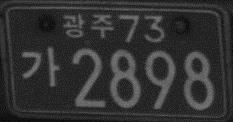2: (70, 45, 107, 109)
3: (143, 14, 165, 44)
7: (117, 12, 140, 43)
8: (108, 47, 141, 109), (182, 50, 214, 111)
9: (144, 48, 177, 110)
가: (21, 45, 60, 89)
광주_O: (61, 10, 113, 39)
